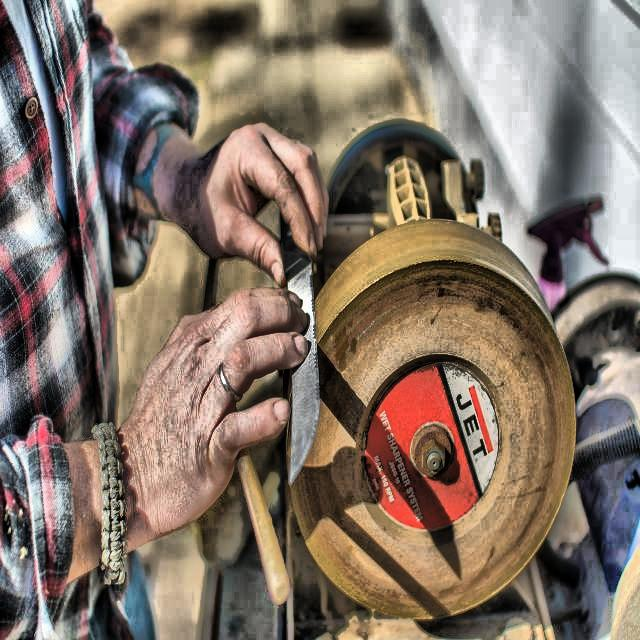knife: (283, 188, 326, 490)
